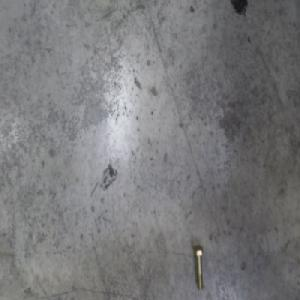Bolt: (192, 243, 204, 291)
